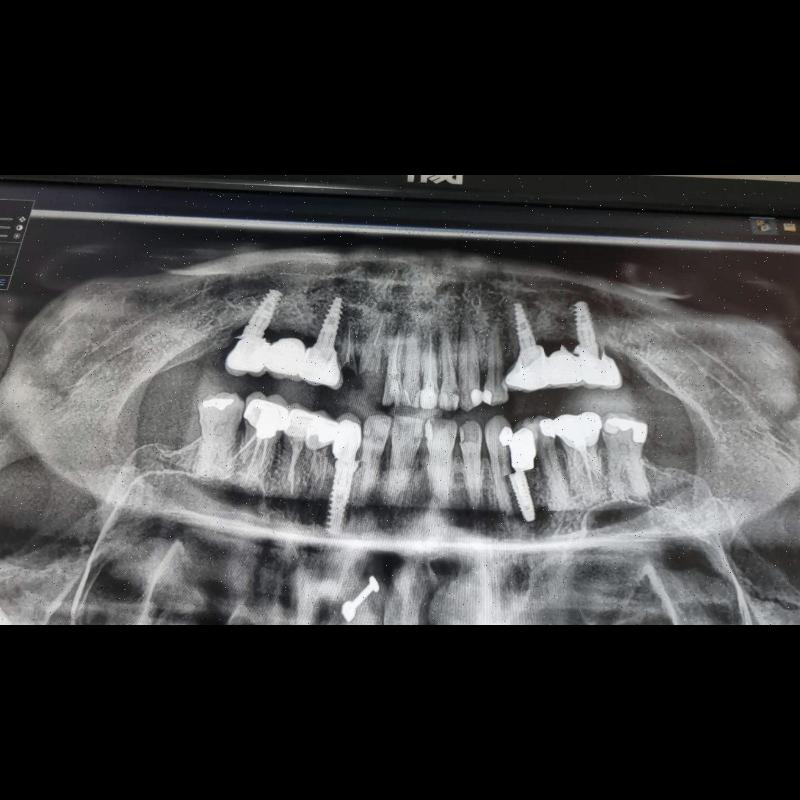ADIN: (315, 458, 369, 538), (233, 279, 285, 343), (563, 296, 611, 358), (501, 470, 549, 530), (505, 297, 543, 362), (308, 298, 350, 354)
